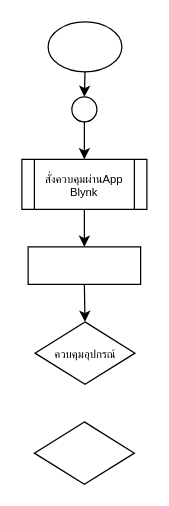
Some shapes in this 169 by 506 pixel diagram are drawn without their labels. Each missing label, with the centre of its shape:
"esp32 สั่งควบคุม" belongs at (84,265).
"เริ่มต้น" belongs at (84,46).
